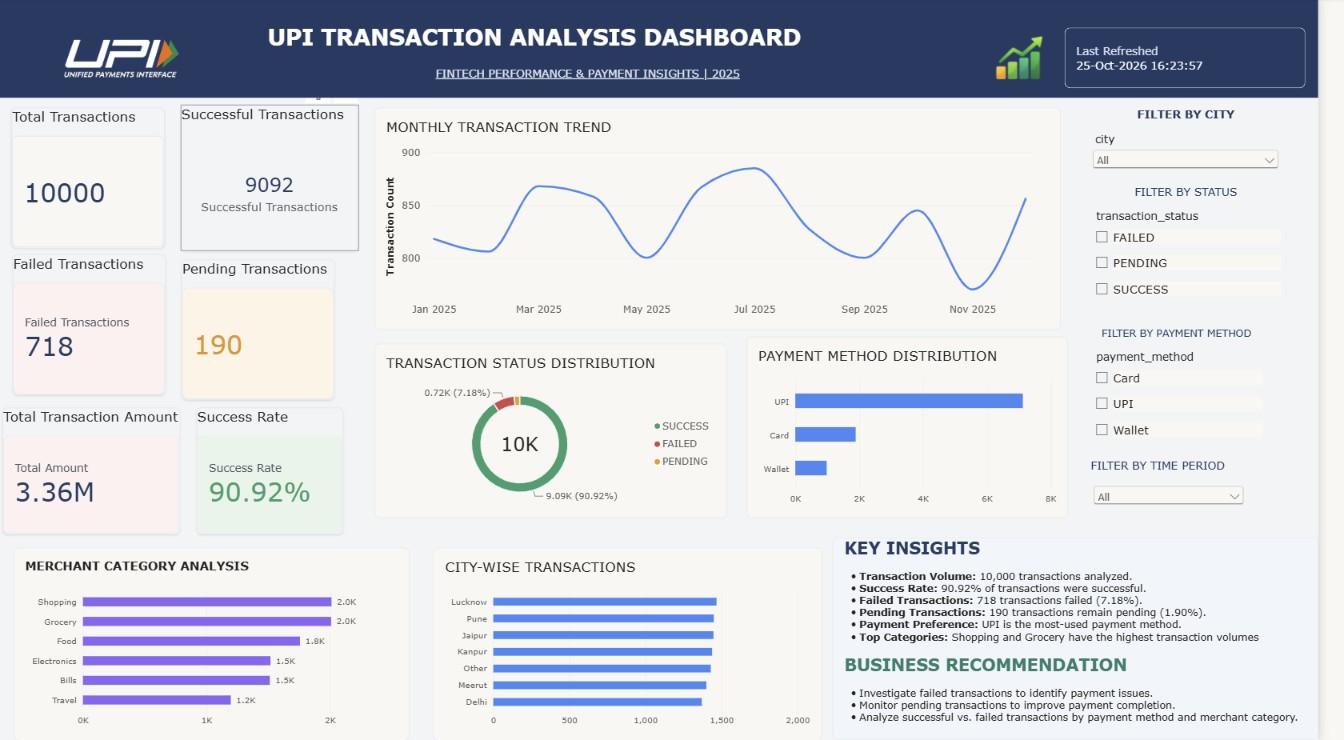

Layout of this report page (visuals, bound fields, positions):
{"tool":"powerbi","page":{"name":"Page 1","canvas":[1920,1080],"ordinal":0},"visuals":[{"type":"cardVisual","title":"Total Transactions","fields":{"Data":["CountNonNull(upi_analytics upi_transactions.transaction_id)"]},"box":[19.8,160,222,204.4],"z":0},{"type":"card","title":"Successful Transactions","fields":{"Values":["upi_analytics upi_transactions.Successful Transactions"]},"box":[266.6,155.9,258.8,213.6],"z":1000},{"type":"cardVisual","title":"Failed Transactions","fields":{"Data":["upi_analytics upi_transactions.Failed Transactions"]},"box":[21.6,373.9,222,204],"z":2000},{"type":"cardVisual","title":"Total Transaction Amount","fields":{"Data":["upi_analytics upi_transactions.Total Amount"]},"box":[7.8,595.5,258.8,184],"z":3000},{"type":"cardVisual","title":"Success Rate","fields":{"Data":["upi_analytics upi_transactions.Success Rate"]},"box":[290,595.5,213.6,184],"z":4000},{"type":"donutChart","title":"TRANSACTION STATUS DISTRIBUTION","fields":{"Category":["upi_analytics upi_transactions.transaction_status"],"Y":["CountNonNull(upi_analytics upi_transactions.transaction_id)"]},"box":[548.3,503.4,512.4,253.5],"z":5000},{"type":"clusteredBarChart","title":"PAYMENT METHOD DISTRIBUTION","fields":{"Category":["upi_analytics upi_transactions.payment_method"],"Y":["CountNonNull(upi_analytics upi_transactions.transaction_id)"]},"box":[1089.4,492.6,467.4,264.3],"z":6000},{"type":"clusteredBarChart","title":"CITY-WISE TRANSACTIONS","fields":{"Category":["upi_analytics upi_transactions.city"],"Y":["CountNonNull(upi_analytics upi_transactions.transaction_id)"]},"box":[634.6,800,564.5,280.4],"z":7000},{"type":"lineChart","title":"MONTHLY TRANSACTION TREND","fields":{"Category":["upi_analytics upi_transactions.timestamp.Variation.Date Hierarchy.Year","upi_analytics upi_transactions.timestamp.Variation.Date Hierarchy.Month"],"Y":["CountNonNull(upi_analytics upi_transactions.transaction_id)"]},"box":[548.7,160.6,997.8,323.6],"z":8000},{"type":"slicer","title":"FILTER BY CITY","fields":{"Values":["upi_analytics upi_transactions.city"]},"box":[1587.4,160,279.4,325],"z":9000},{"type":"slicer","title":"FILTER BY PAYMENT METHOD","fields":{"Values":["upi_analytics upi_transactions.payment_method"]},"box":[1589.2,478.2,249.9,212.1],"z":10000},{"type":"slicer","title":"FILTER BY STATUS","fields":{"Values":["upi_analytics upi_transactions.transaction_status"]},"box":[1589.2,271.5,276.9,204.9],"z":11000},{"type":"clusteredBarChart","title":"MERCHANT CATEGORY ANALYSIS","fields":{"Category":["upi_analytics upi_transactions.merchant_category"],"Y":["CountNonNull(upi_analytics upi_transactions.transaction_id)"]},"box":[23.4,800,575.3,280.4],"z":12000},{"type":"textbox","box":[1214.4,785.7,706.2,294.6],"z":13000},{"type":"textbox","box":[0,0,1920,145.6],"z":14000},{"type":"textbox","box":[377.3,37.4,807.2,61.1],"z":15000},{"type":"cardVisual","title":"Pending Transactions","fields":{"Data":["upi_analytics upi_transactions.Pending Transactions"]},"box":[267.9,381.1,222,204],"z":16000},{"type":"textbox","box":[503.5,99.8,710.1,32.4],"z":17000},{"type":"slicer","title":"FILTER BY TIME PERIOD","fields":{"Values":["upi_analytics upi_transactions.timestamp"]},"box":[1588.5,670.3,227.6,124.7],"z":18000},{"type":"image","box":[47.6,0,265,177.7],"z":19000},{"type":"cardVisual","fields":{"Data":["Last Refresh Time.Last Refreshed Display"]},"box":[1551.7,43.3,350.6,88.7],"z":20000},{"type":"image","box":[1393.3,50.3,181.6,73.7],"z":21000}]}

Visuals, with their boxes in screenshot pixels (x1, y1, x2, y2), scaled from the page's 1920x1080 canvas onto the 1344x740 screenshot:
"Total Transactions" cardVisual: 14:110:169:250
"Successful Transactions" card: 187:107:368:253
"Failed Transactions" cardVisual: 15:256:171:396
"Total Transaction Amount" cardVisual: 5:408:187:534
"Success Rate" cardVisual: 203:408:353:534
"TRANSACTION STATUS DISTRIBUTION" donutChart: 384:345:742:519
"PAYMENT METHOD DISTRIBUTION" clusteredBarChart: 763:338:1090:519
"CITY-WISE TRANSACTIONS" clusteredBarChart: 444:548:839:739
"MONTHLY TRANSACTION TREND" lineChart: 384:110:1083:332
"FILTER BY CITY" slicer: 1111:110:1307:332
"FILTER BY PAYMENT METHOD" slicer: 1112:328:1287:473
"FILTER BY STATUS" slicer: 1112:186:1306:326
"MERCHANT CATEGORY ANALYSIS" clusteredBarChart: 16:548:419:739
textbox: 850:538:1343:739
textbox: 0:0:1343:100
textbox: 264:26:829:67
"Pending Transactions" cardVisual: 188:261:343:401
textbox: 352:68:850:91
"FILTER BY TIME PERIOD" slicer: 1112:459:1271:545
image: 33:0:219:122
cardVisual - Last Refresh Time.Last Refreshed Display: 1086:30:1332:90
image: 975:34:1102:85
